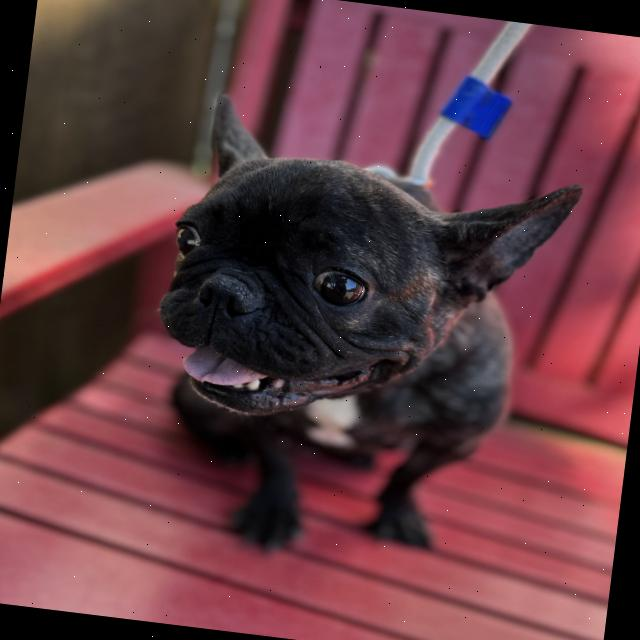french_bulldog_dog: (104, 75, 593, 483)
